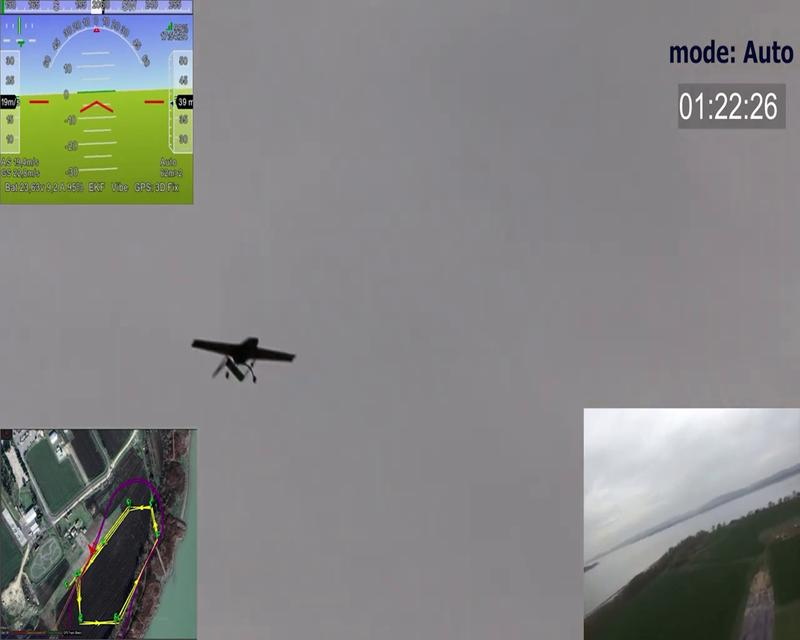UAV: (190, 338, 296, 384)
